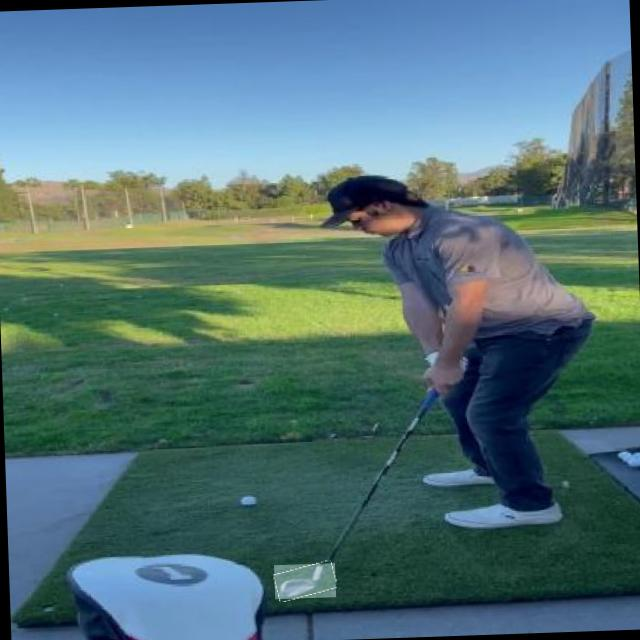club head: (274, 562, 336, 598)
